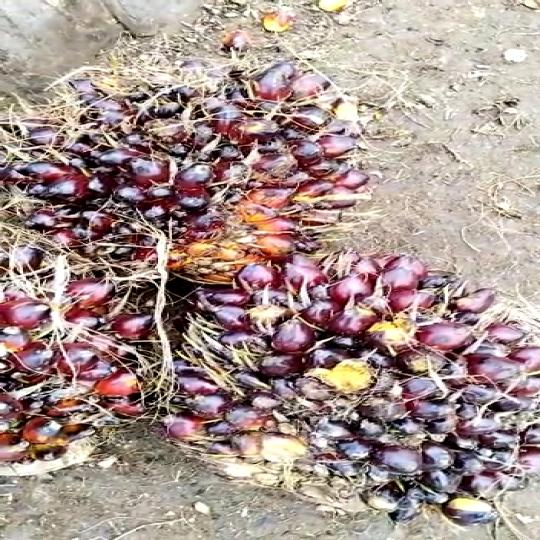kurang masak: (155, 235, 540, 509), (13, 59, 398, 272), (1, 259, 181, 484)
